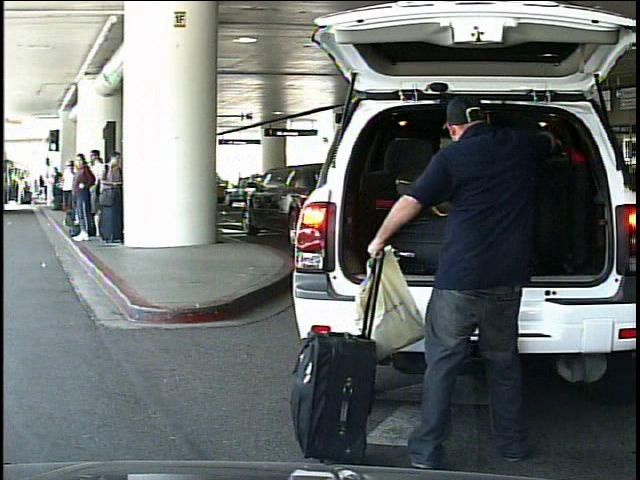person: (360, 99, 559, 473), (34, 172, 47, 203), (18, 175, 28, 206)
